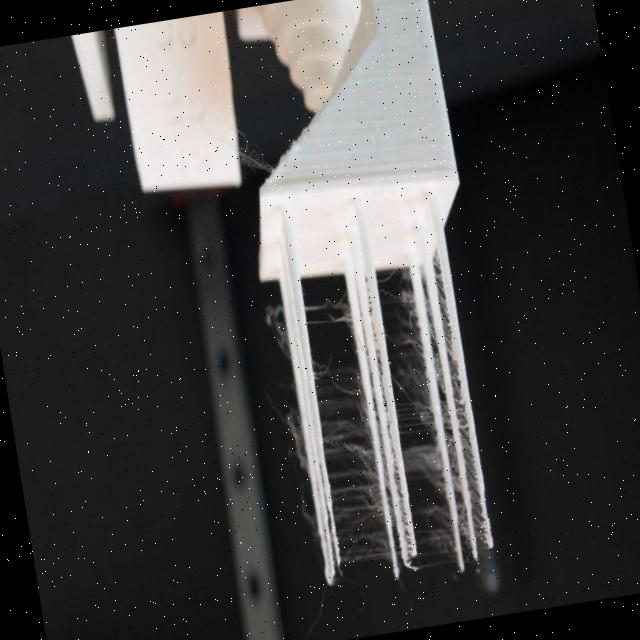stringing: (313, 348, 391, 568), (433, 246, 487, 545), (421, 270, 471, 556), (382, 260, 435, 432), (411, 497, 456, 557), (401, 440, 444, 489), (283, 400, 308, 484), (261, 299, 291, 368), (296, 483, 322, 559), (304, 290, 352, 330), (236, 129, 270, 175)
